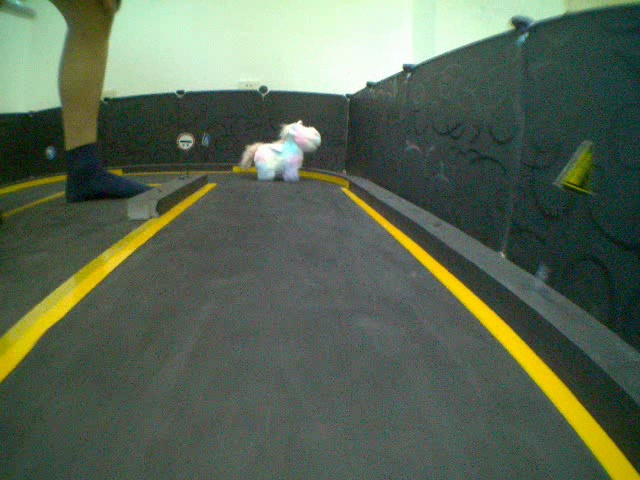unicorn: (239, 118, 321, 187)
